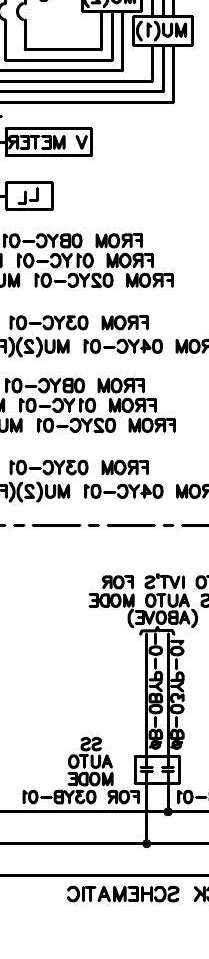LL: (4, 180, 55, 212)
MU: (131, 14, 195, 48)
v_m_digital: (4, 126, 94, 158)
